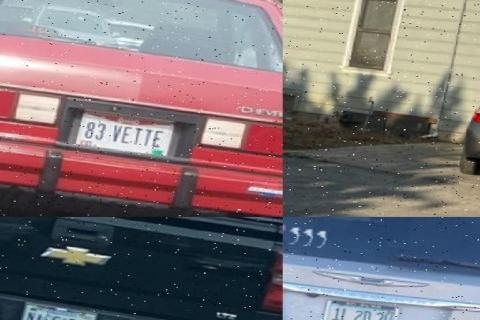LicensePlate: (78, 107, 177, 151), (325, 295, 404, 319), (23, 298, 103, 319)
